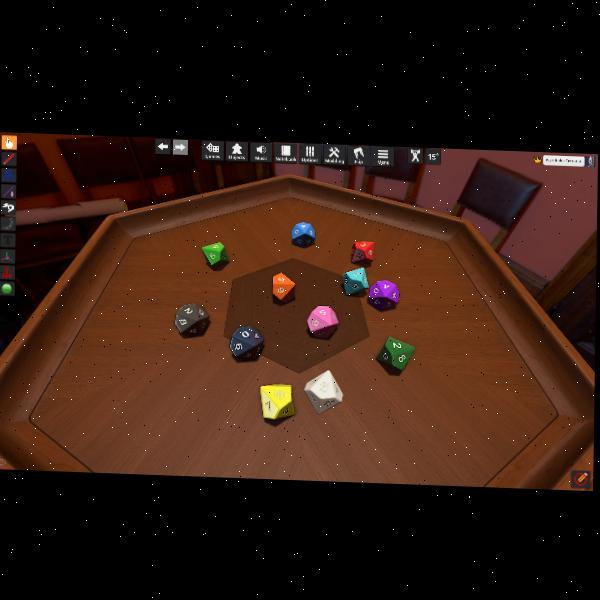d10: (303, 367, 342, 413), (259, 381, 293, 420), (376, 335, 414, 369), (174, 301, 209, 335), (229, 325, 263, 360), (368, 278, 400, 310), (306, 305, 337, 338), (341, 266, 369, 295), (272, 271, 296, 302), (202, 241, 229, 268), (293, 221, 316, 248), (351, 240, 374, 263)
